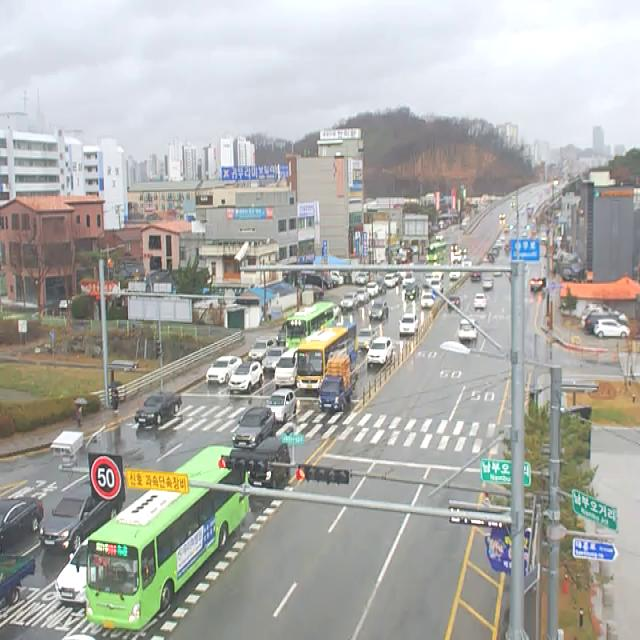Bus: (76, 446, 248, 630), (297, 323, 358, 389), (282, 302, 334, 348), (426, 242, 447, 262)
Car: (39, 481, 125, 552), (0, 498, 44, 548), (248, 437, 290, 489), (55, 538, 88, 603), (232, 407, 276, 448), (135, 392, 182, 426), (581, 305, 629, 328), (229, 362, 262, 393), (206, 356, 242, 384), (266, 390, 296, 422), (585, 310, 627, 332), (275, 349, 298, 385), (594, 319, 630, 339), (367, 338, 393, 364), (248, 338, 277, 360), (262, 346, 287, 370), (358, 328, 378, 349), (369, 300, 388, 322), (459, 318, 478, 339), (399, 314, 418, 334), (341, 292, 358, 310), (530, 276, 546, 292), (405, 283, 419, 300), (421, 293, 435, 309), (276, 326, 286, 346), (357, 288, 369, 304), (474, 294, 487, 308), (430, 280, 444, 293), (356, 272, 368, 286), (448, 296, 460, 310), (432, 264, 444, 278), (470, 270, 482, 283), (384, 274, 396, 287), (423, 273, 433, 288), (403, 276, 416, 287), (368, 283, 379, 296), (377, 280, 387, 294), (482, 279, 493, 290), (333, 304, 341, 319), (395, 273, 404, 286), (449, 271, 460, 281), (486, 252, 495, 264), (462, 258, 472, 267), (453, 253, 461, 263), (460, 246, 468, 254), (492, 248, 499, 257), (496, 239, 502, 249), (436, 234, 444, 241), (451, 243, 458, 251), (504, 224, 510, 233), (499, 213, 506, 220), (521, 230, 528, 237), (500, 235, 506, 242), (504, 244, 510, 251)
Truck: (1, 555, 36, 605), (318, 375, 356, 410)
